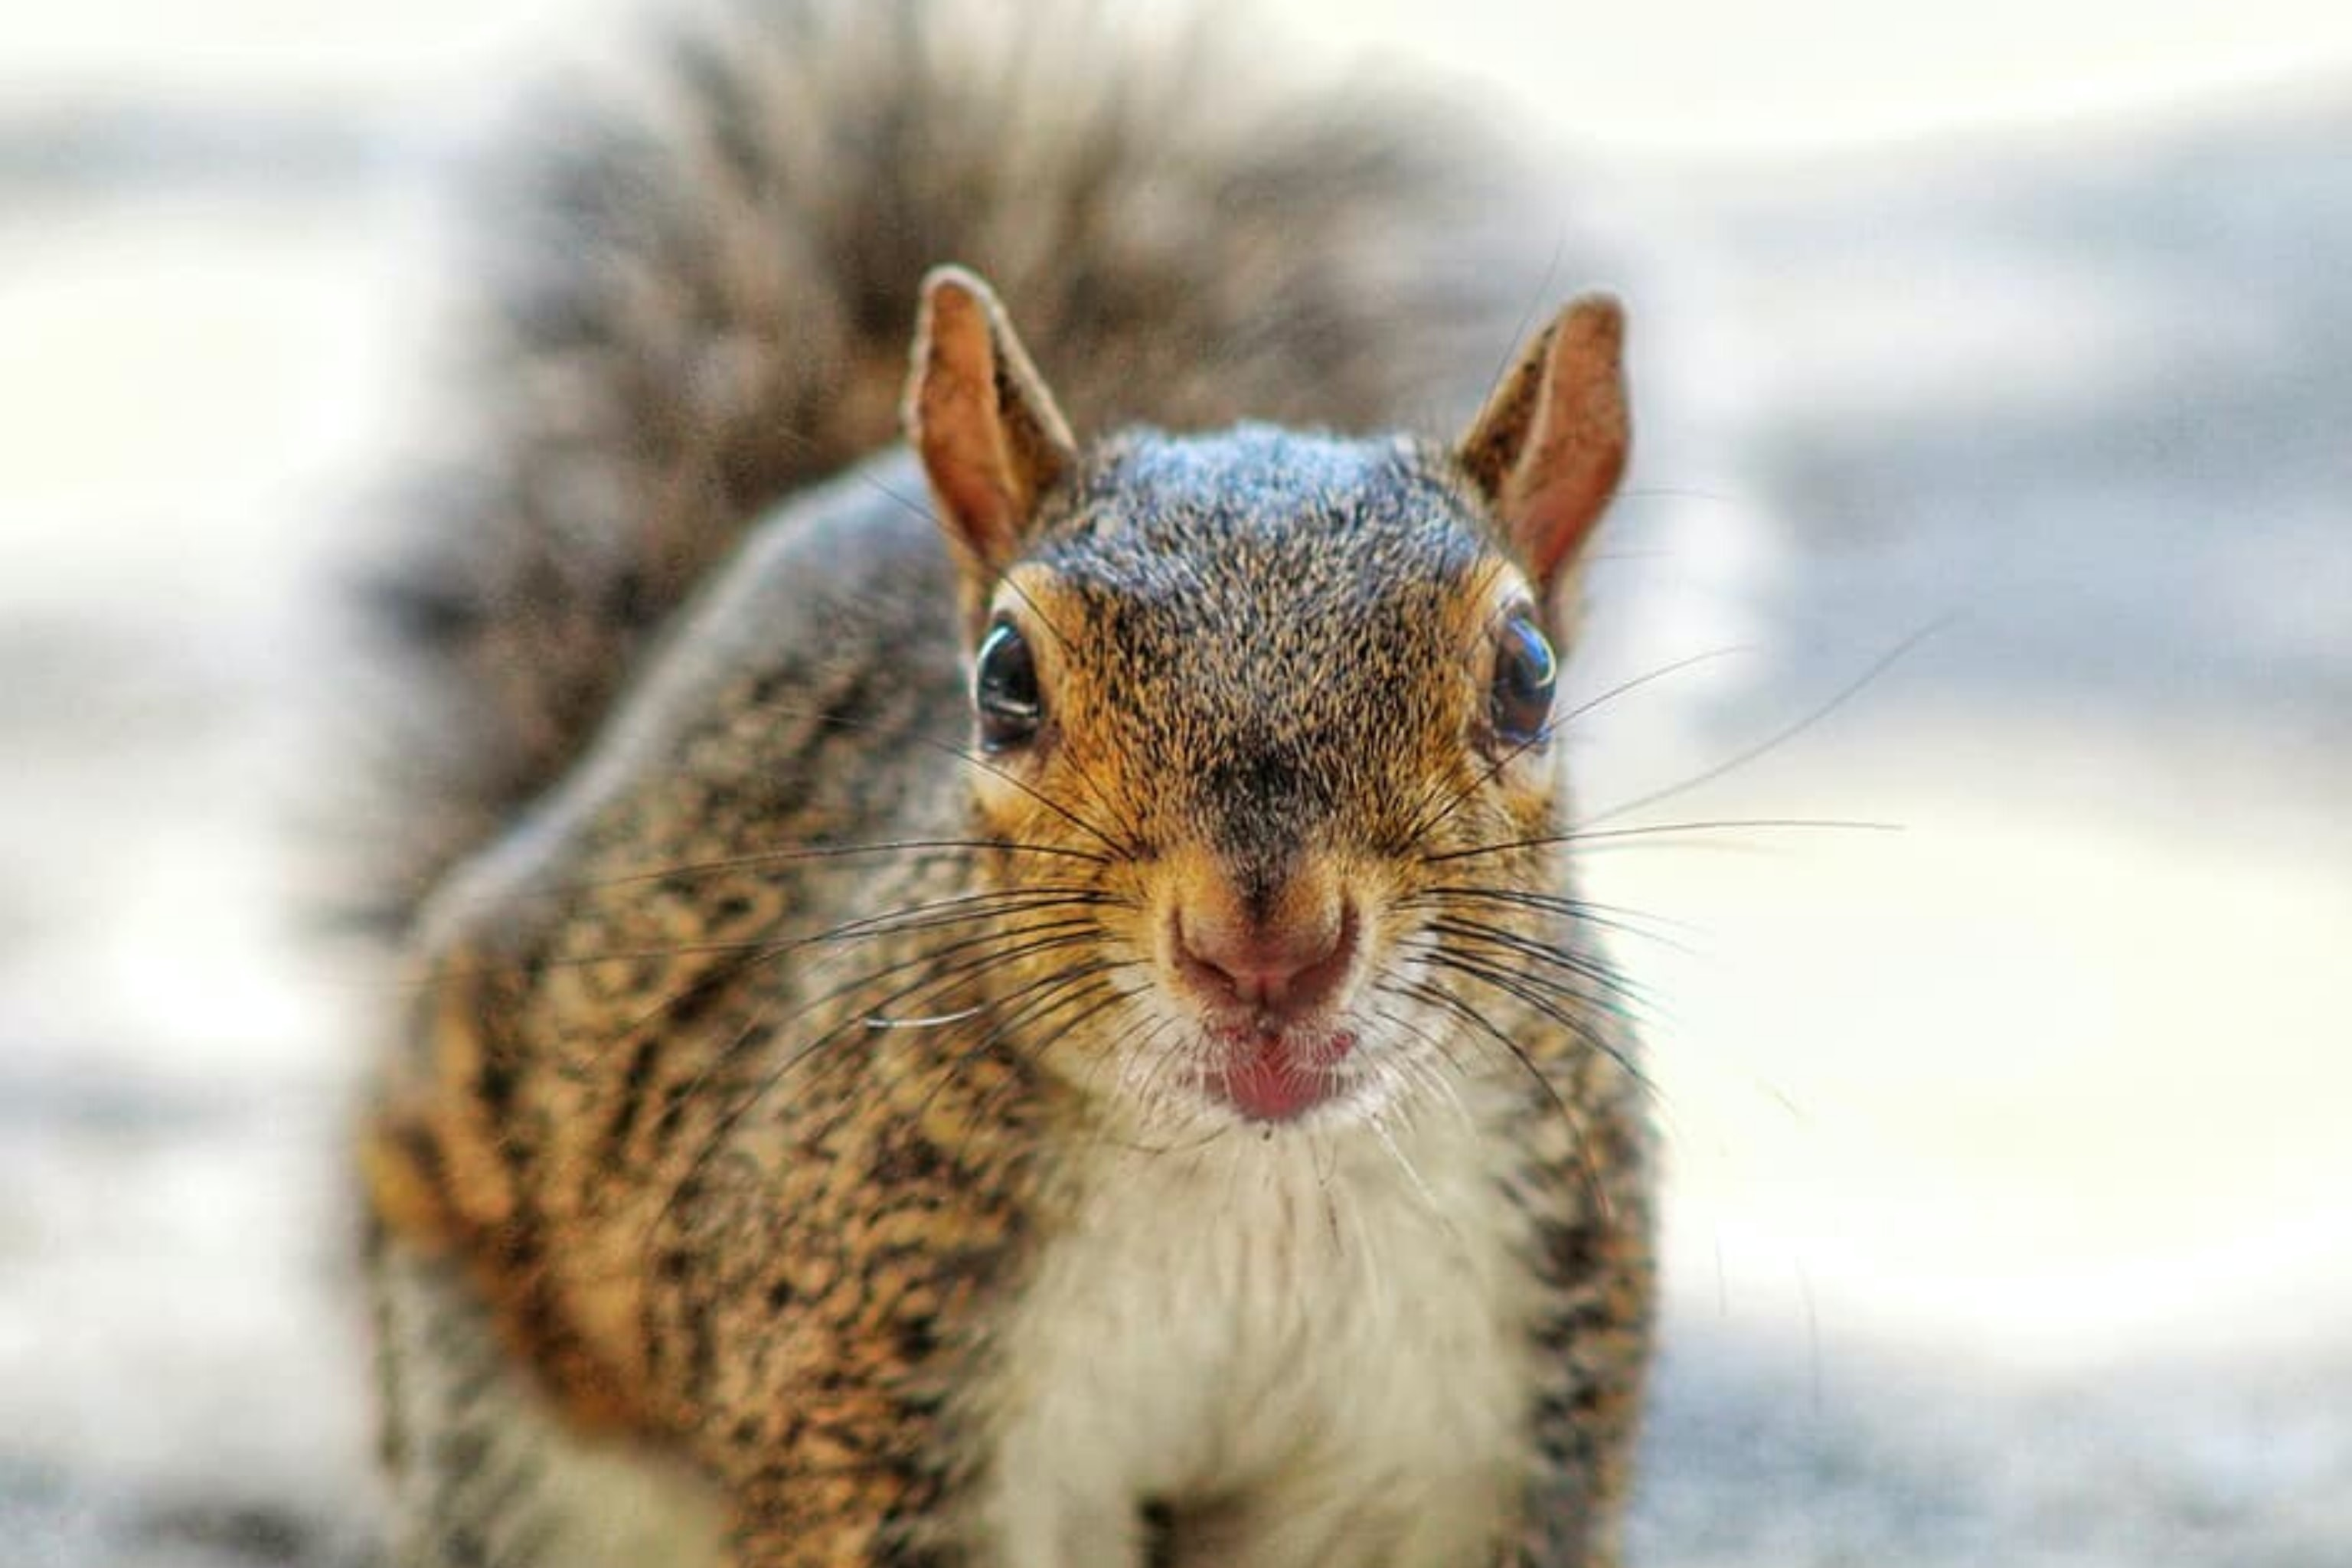squirrel: (448, 21, 1671, 1568)
